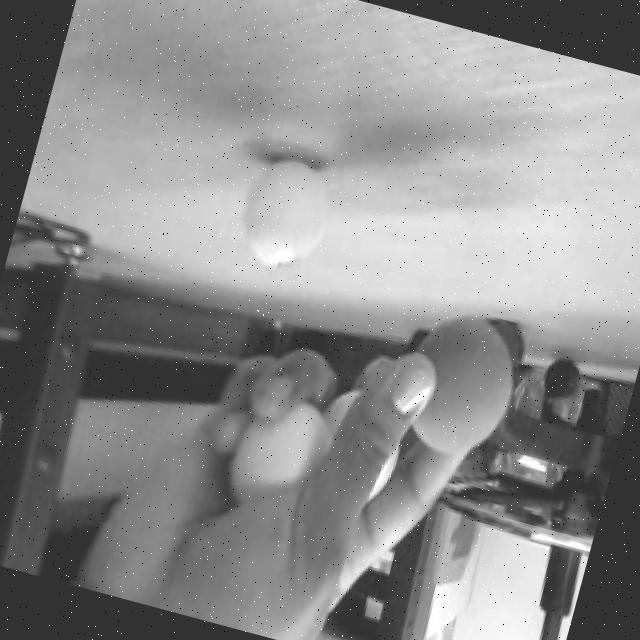ping-pong-ball: (298, 376, 416, 524), (224, 144, 342, 282), (218, 386, 338, 520)
